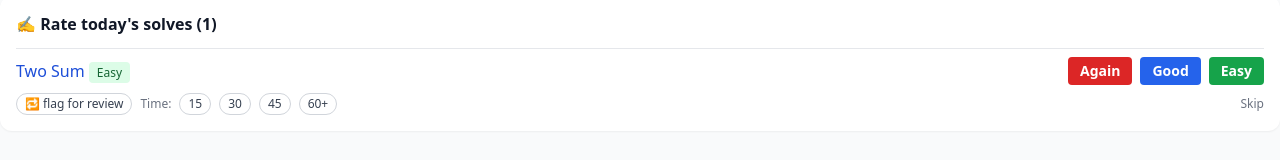
Test: RateSolveCard › shows the error and keeps the row if saving fails
Click the button with aria-label "Easy: Two Sum": coordinates (1236, 71) [1209,57,1264,85]
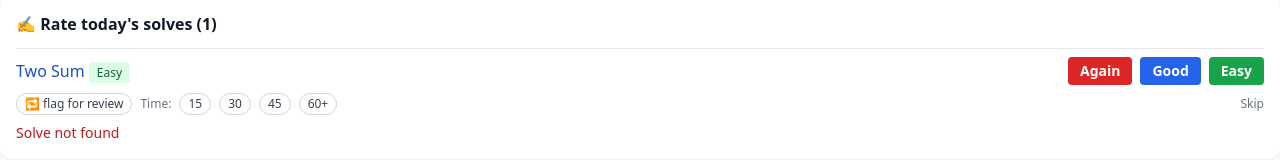
Expected: the link "Two Sum" is shown, [16,60,85,82]
Result: the message reads "Solve not found" at [16,123,119,142]
